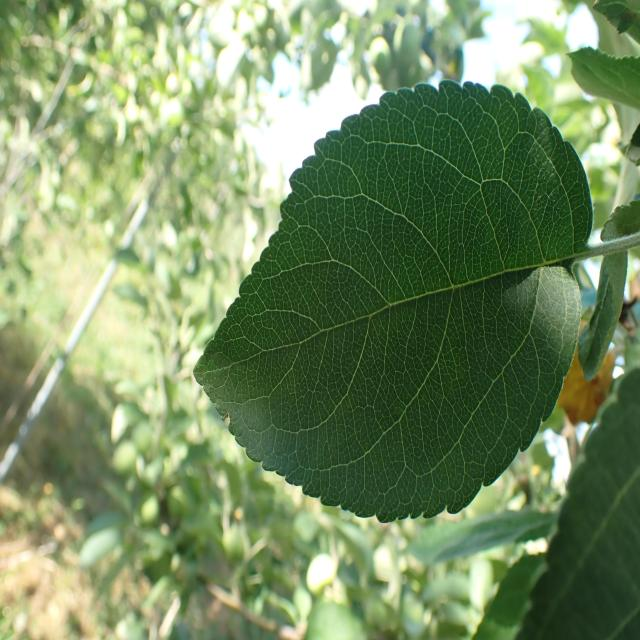healthy: (192, 78, 594, 522), (513, 367, 639, 640)
